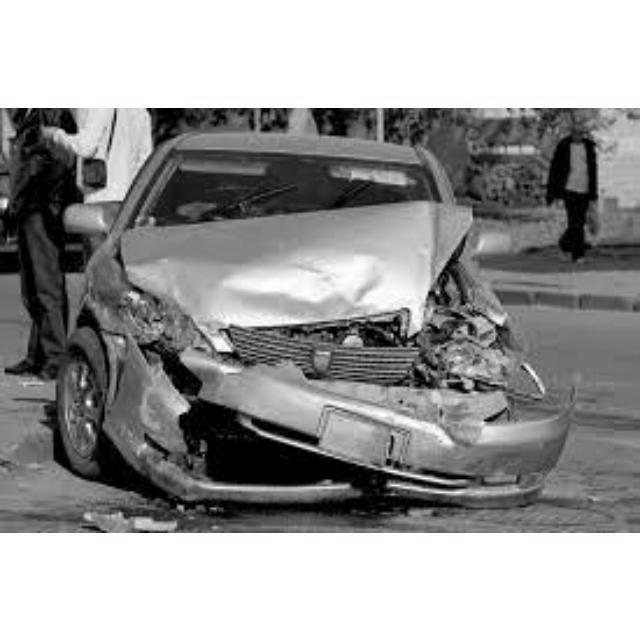bonnet-dent: (89, 196, 498, 347)
front-bumper-dent: (68, 349, 575, 507)
